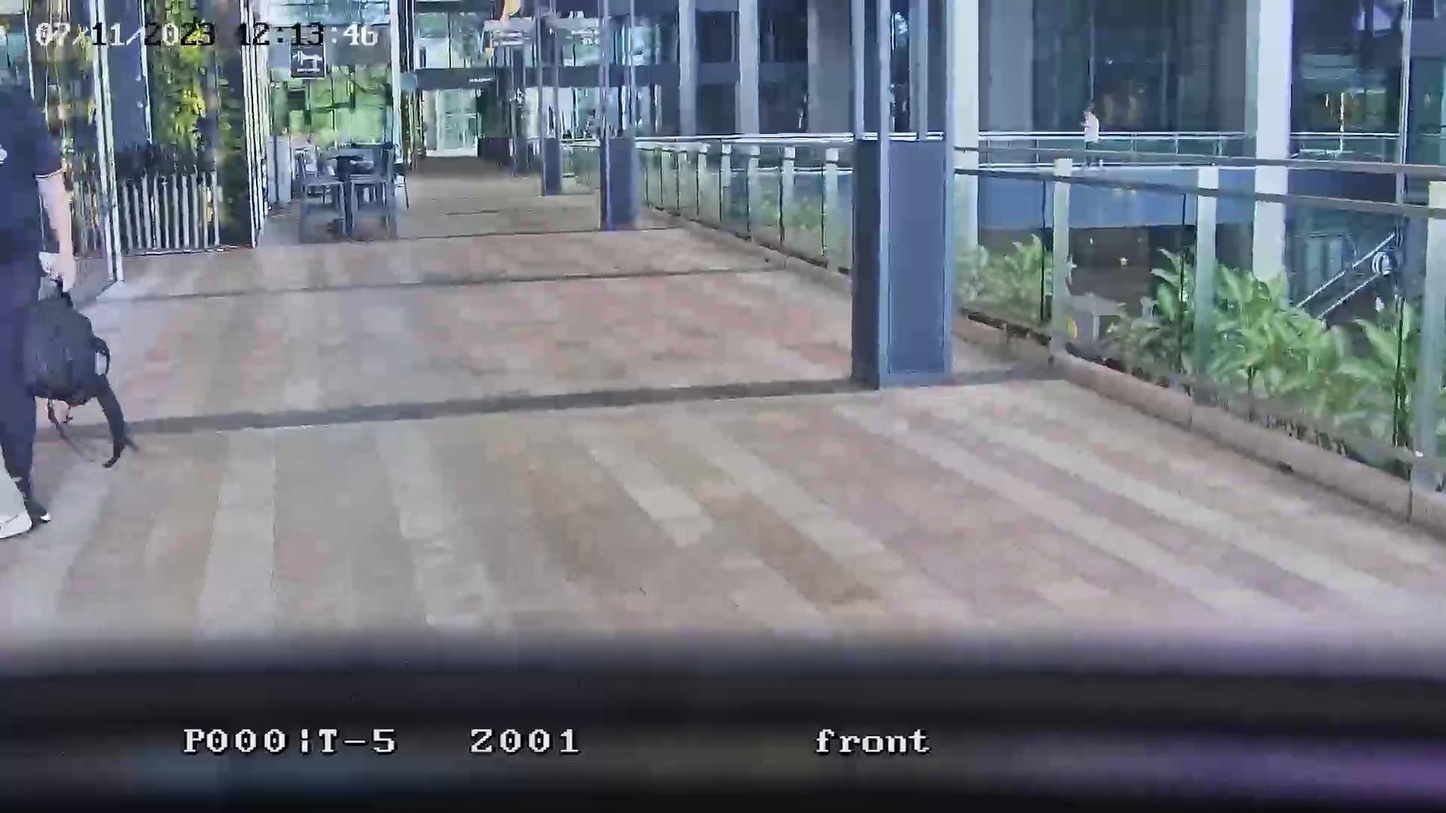person: (0, 72, 77, 537)
